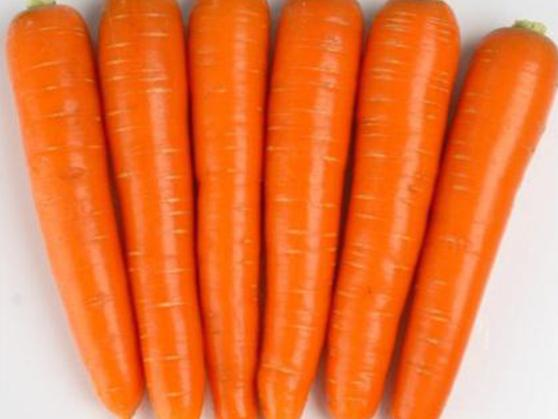carrot: (4, 3, 145, 417)
